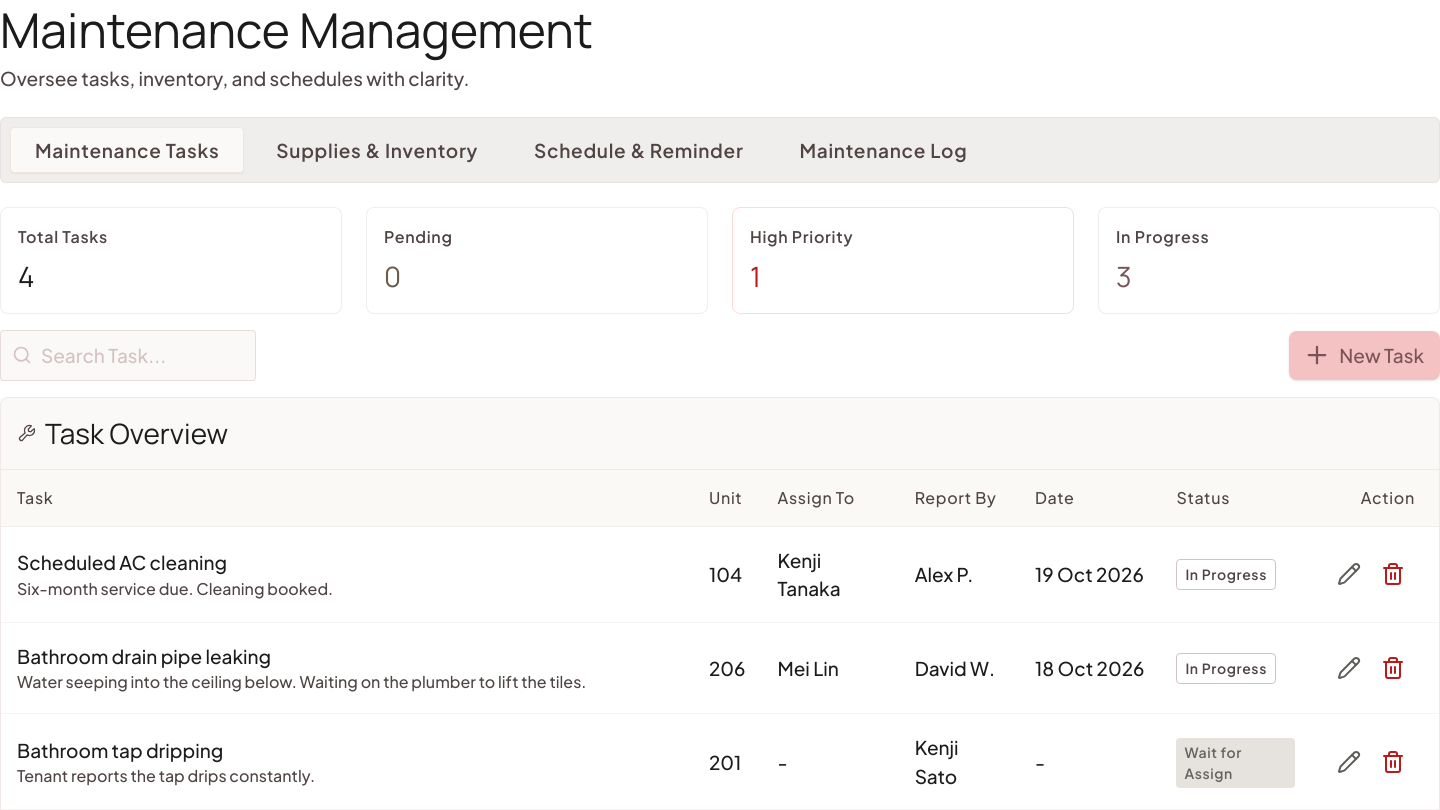
Scenario: ค้นหาในแท็บ Maintenance Log › ค้นหาจนไม่เหลือรายการ ต้องบอกผู้ใช้ ไม่ใช่ปล่อยตารางว่าง
Click the button "Maintenance Log" at (883, 150), box [776, 126, 991, 173]
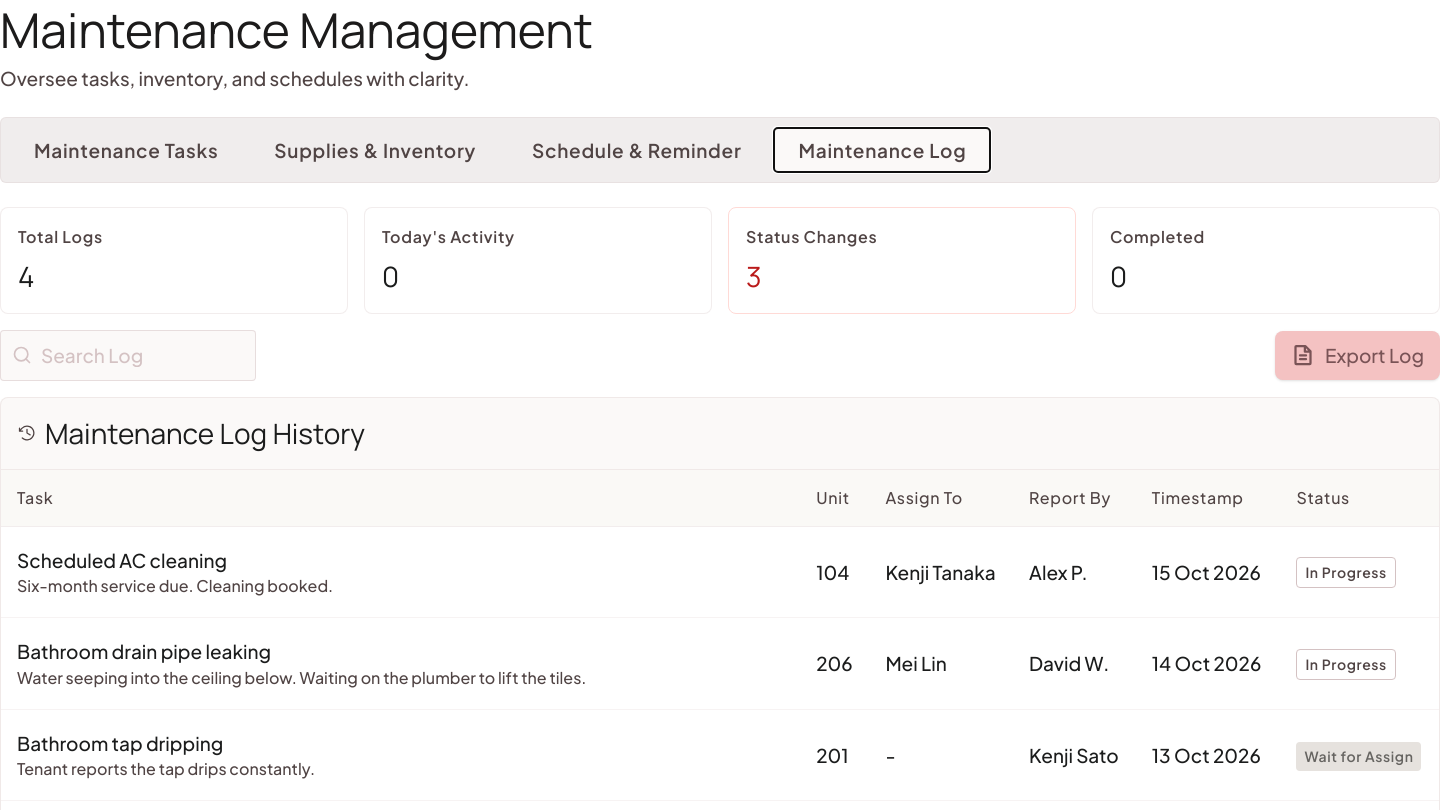
Type "no such task name" into the field named "Search the maintenance log" at (128, 355), box [0, 330, 256, 381]
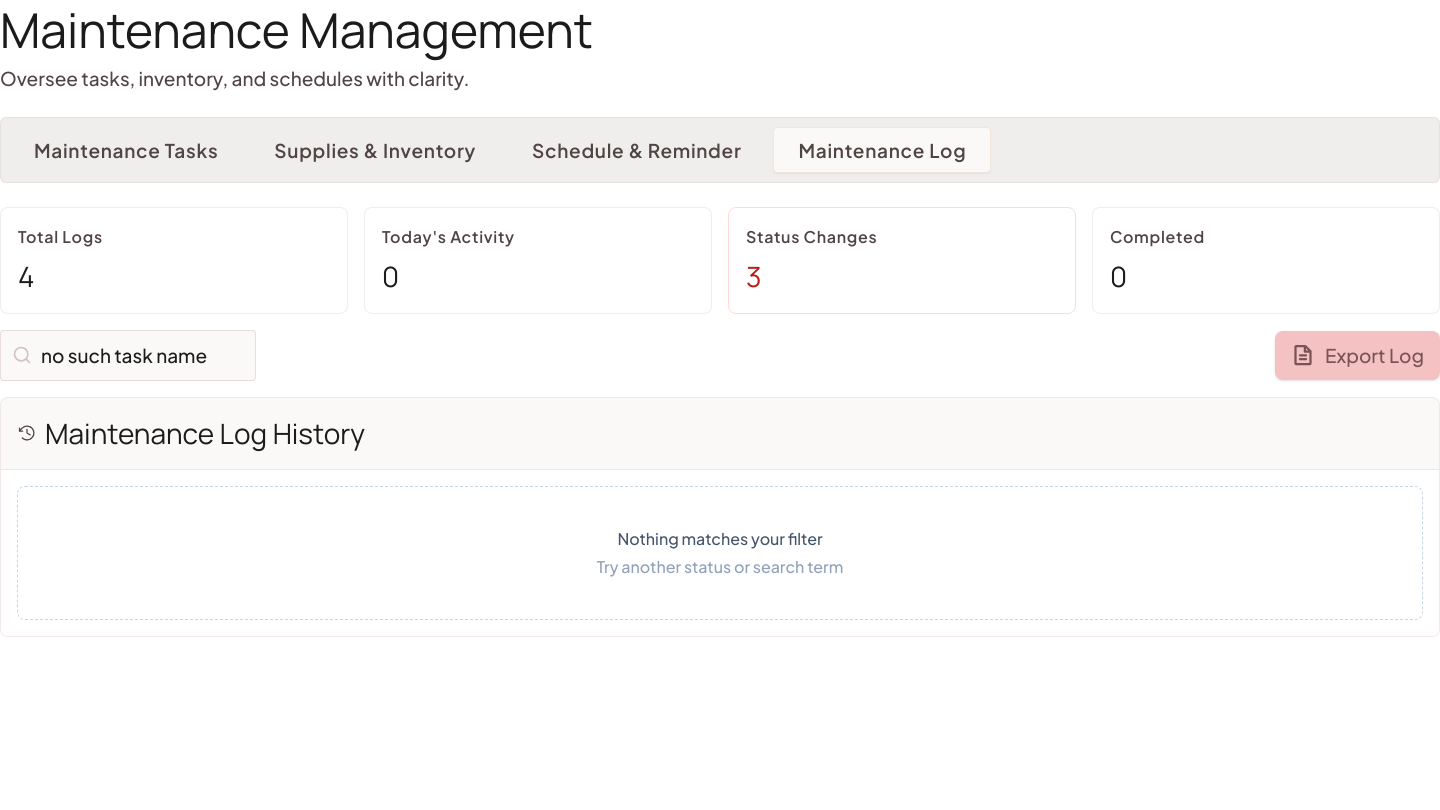
Check: the text "Nothing matches your filter" is shown, box [617, 528, 823, 549]
